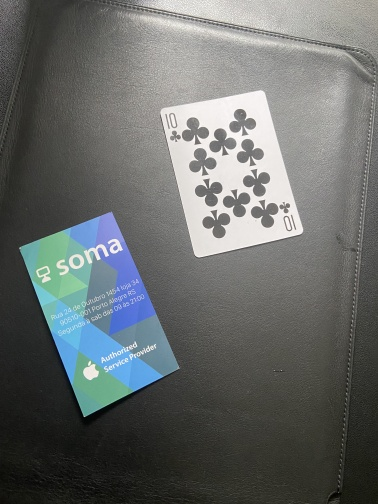ten: (159, 90, 304, 259)
